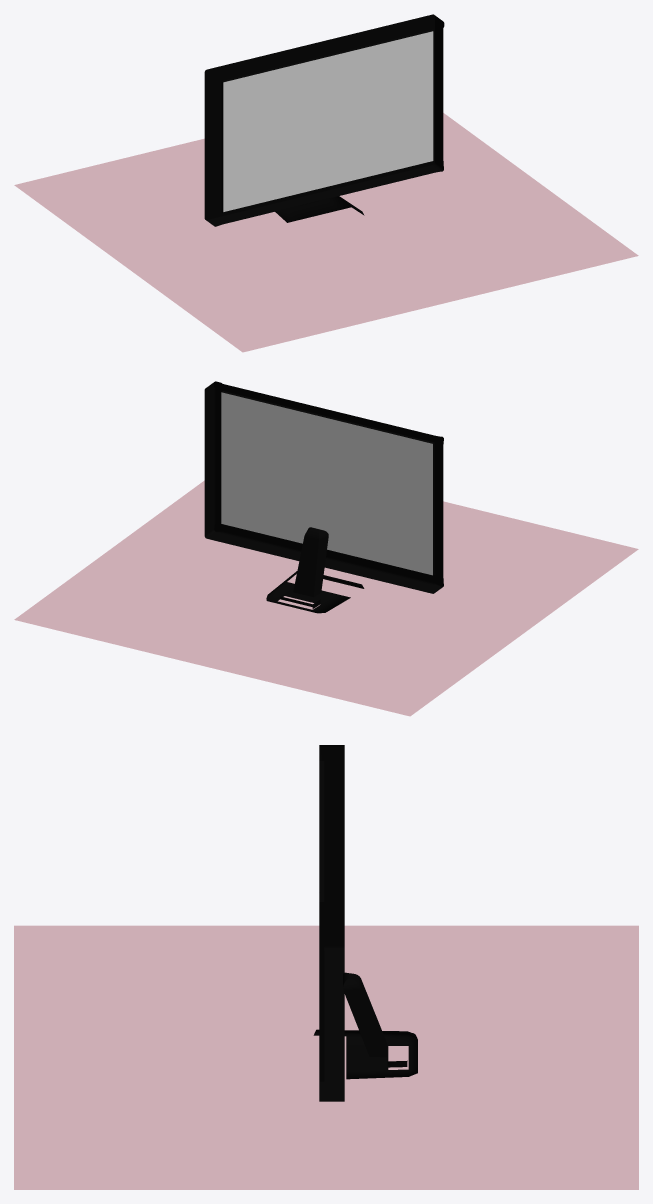
File: .blendmonita.fbx
The picture shows the model from 3 angles, top to bottom: view 1: azimuth 30°, elevation 25°; view 2: azimuth 150°, elevation 25°; view 3: azimuth 270°, elevation 25°; orthographic projection. The views are drawn at different scales.
Parts seen in each view (by area): view 1: 平面.001, Cube, 平面; view 2: 平面.001, Cube, 立方体.001, 平面; view 3: 平面.001, Cube, 平面, 立方体.001.
Boxes of the visible parts, x1,y1,x2,y2 form: 平面.001: (14,113,638,352); Cube: (204,14,444,226); 平面: (275,196,364,222); 平面.001: (14,480,638,716); Cube: (204,381,443,593); 立方体.001: (293,527,328,597); 平面: (266,571,364,613); 平面.001: (14,925,638,1189); Cube: (319,745,344,1101); 平面: (313,1029,417,1079); 立方体.001: (343,972,387,1057).
Bounding box in the file's own units: 344 × 144 × 344.
